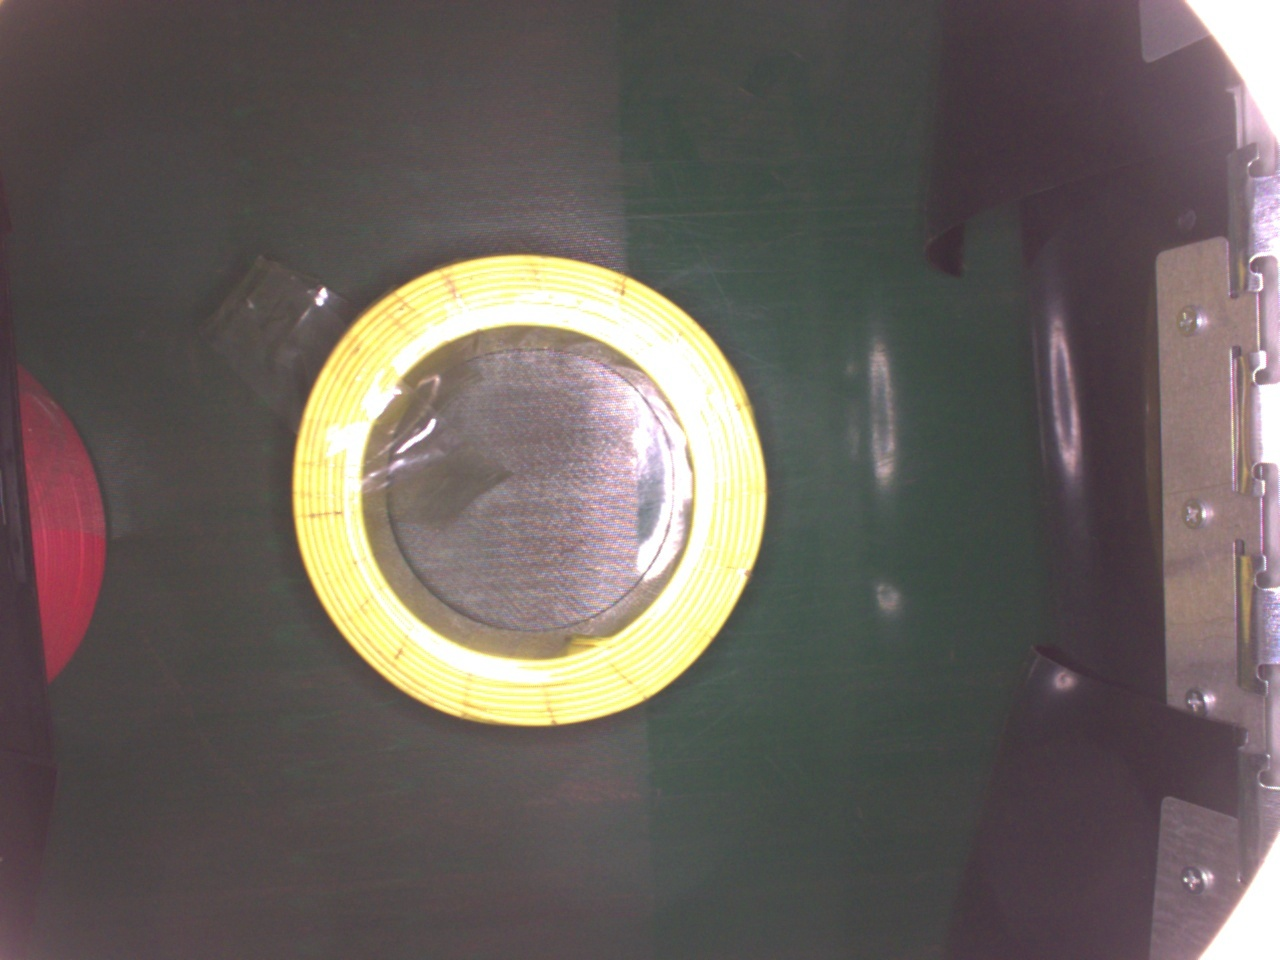yellow: (291, 251, 762, 737)
